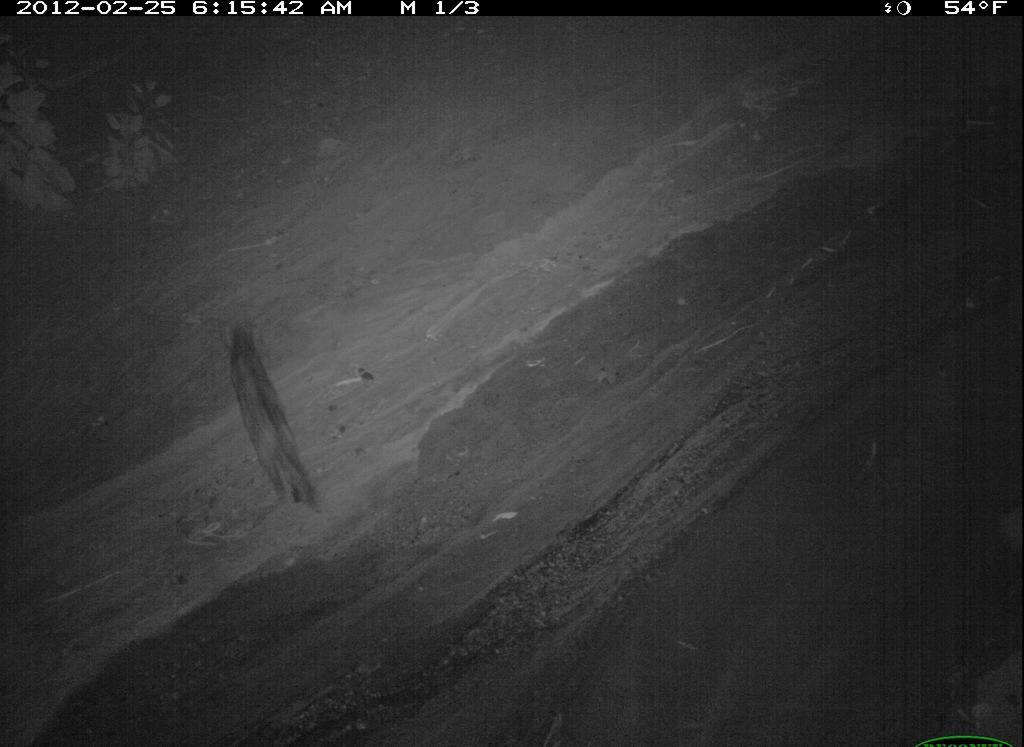cat: (439, 637, 647, 747)
